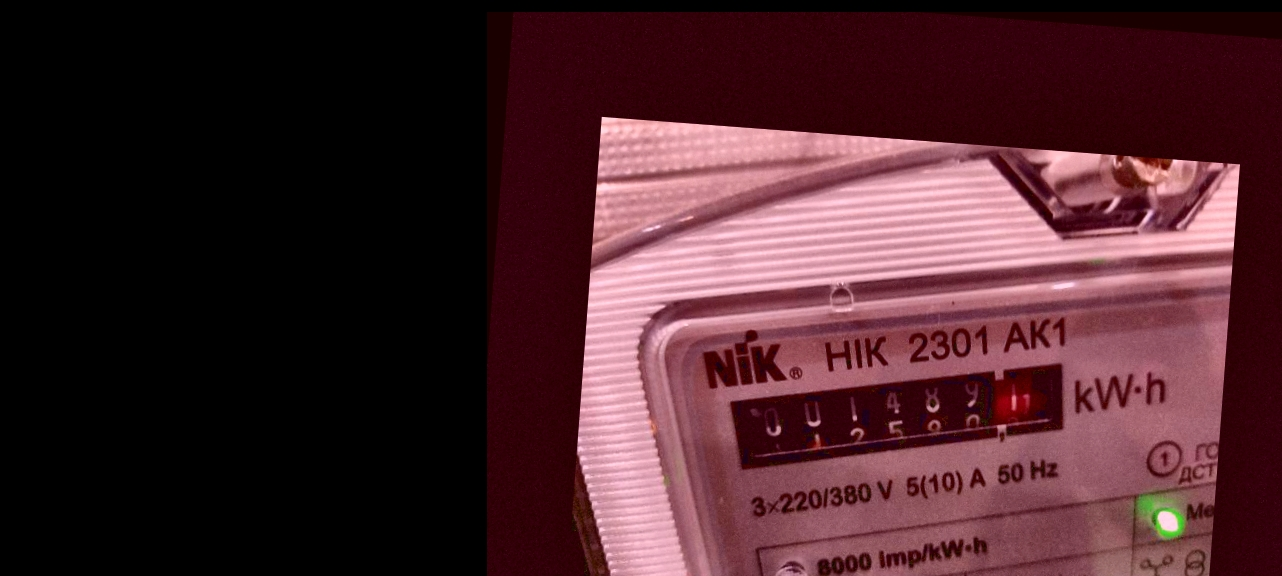0: (798, 393, 826, 430), (759, 404, 785, 440)
1: (1002, 376, 1024, 415), (842, 392, 864, 424)
4: (881, 385, 905, 417)
8: (921, 380, 945, 417)
9: (961, 377, 983, 410)
screen: (713, 329, 1098, 507)
